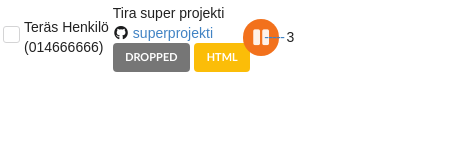
Test: <StudentTableRow /> › StudentTableRow Component › displays review button with pause icon for unreviewed week that has a draft
Hover over the 1st button.
mouse_move(261, 37)  # box [243,19,279,56]
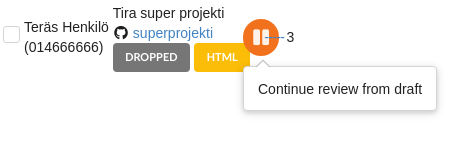
Expected: the 2nd icon is shown, [252,28,270,44]
Result: the text "Continue review from draft" is shown at [258,79,422,99]
